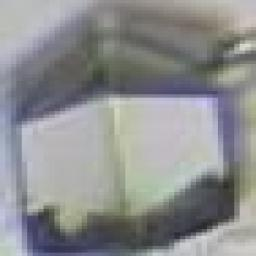crystals: (21, 22, 236, 253)
